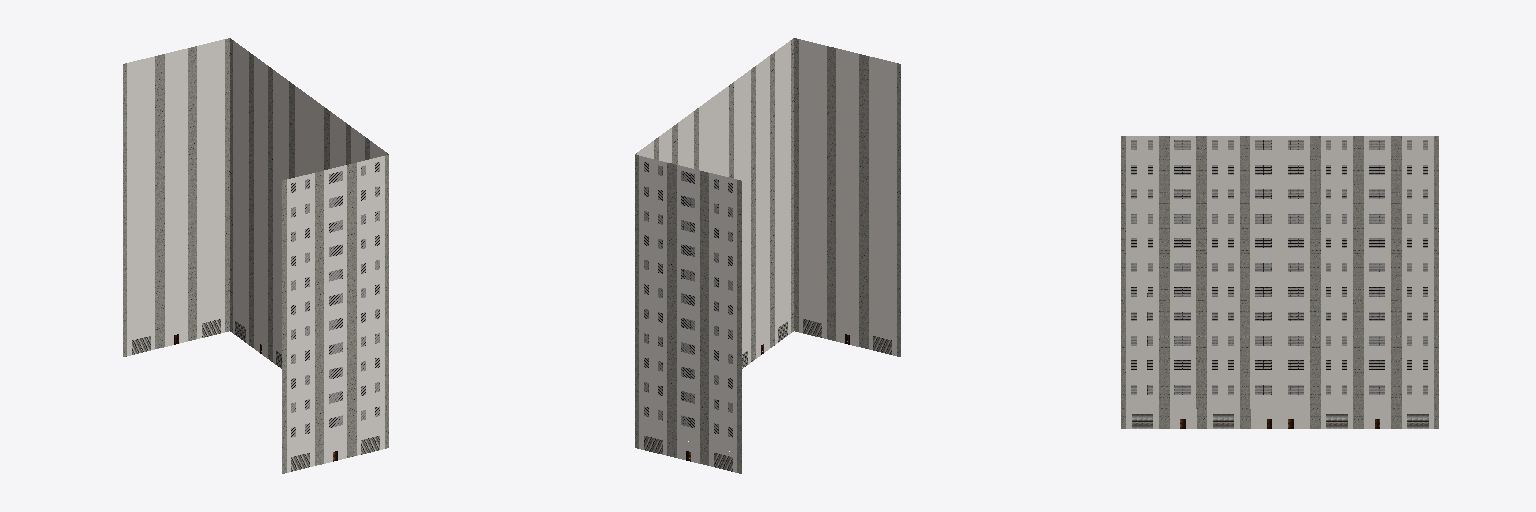
3 views of the same model, side by side, from view 1: azimuth 30°, elevation 25°; view 2: azimuth 150°, elevation 25°; view 3: azimuth 270°, elevation 25° (orthographic).
Visible parts, largest first — view 1: TallLongBuilding1; view 2: TallLongBuilding1; view 3: TallLongBuilding1.
Boxes of the visible parts, <box> form: TallLongBuilding1: <box>123,38,388,473</box>; TallLongBuilding1: <box>635,38,900,473</box>; TallLongBuilding1: <box>1121,136,1438,428</box>.
Bounding box in the file's own units: 23.01 × 60 × 59.11.
Materials: 5 (4 with a texture image).